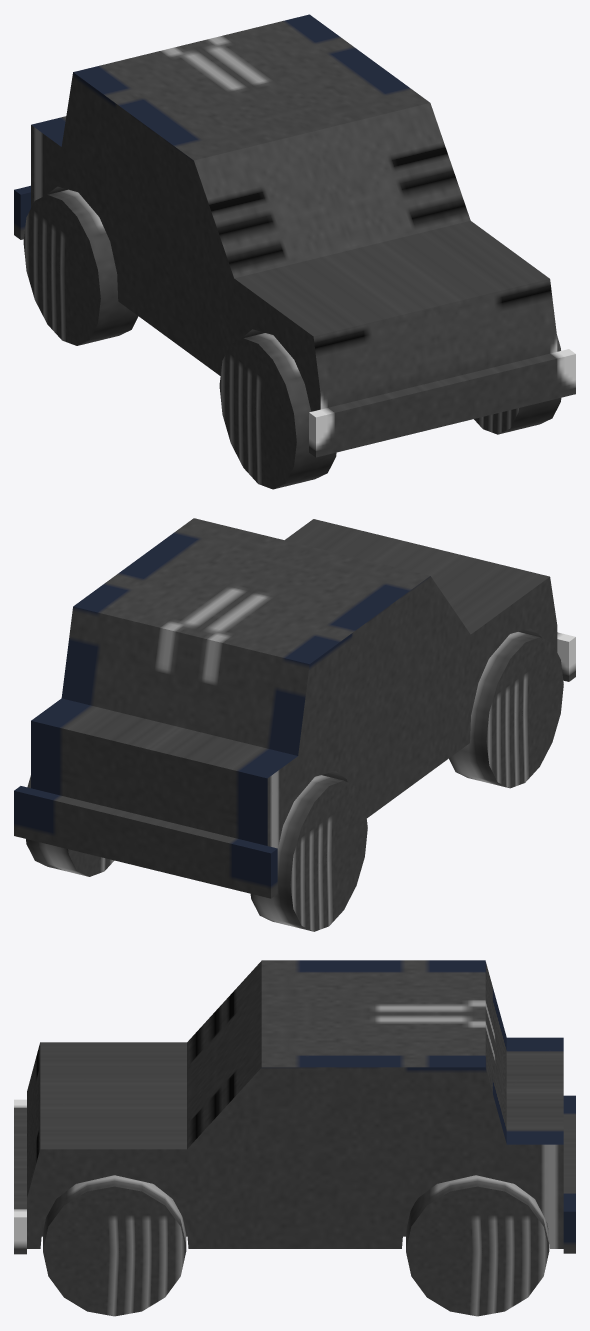
File: car.fbx
3 renders of one model, top to bottom at view 1: azimuth 30°, elevation 25°; view 2: azimuth 150°, elevation 25°; view 3: azimuth 270°, elevation 25°, orthographic. The views are drawn at different scales.
Parts seen in each view (by area): view 1: car; view 2: car; view 3: car.
Part boxes in pixels (x1,y1,x2,y2): car: (14, 14, 575, 489); car: (14, 518, 575, 931); car: (14, 960, 575, 1316).
Size of the model in its own units: 3.95 by 3.7 by 7.78.
